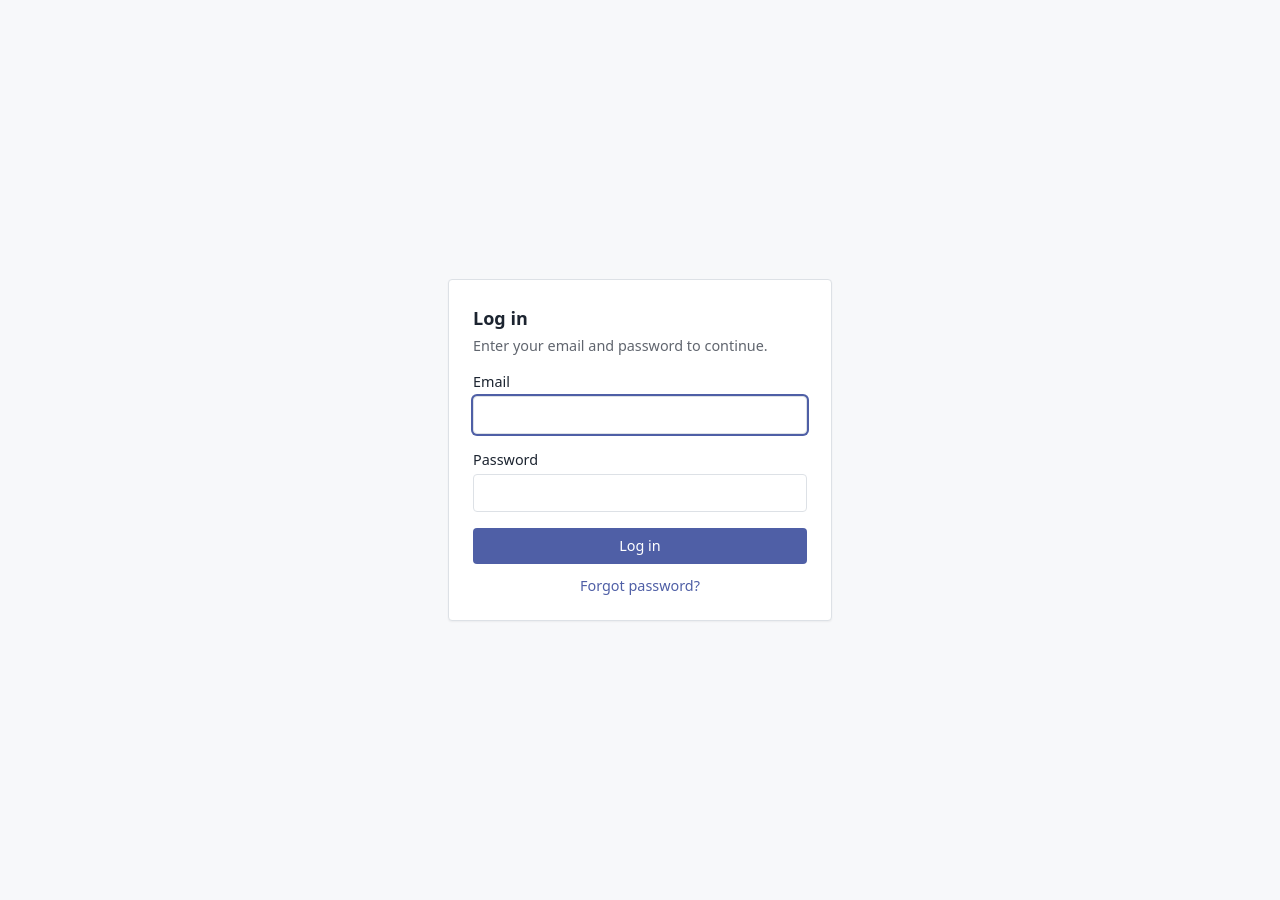
LoginGate › shows an error and stays on the login form when login fails
Type "jo@example.com" into the field labelled "Email" at (640, 415), box [473,396,807,434]
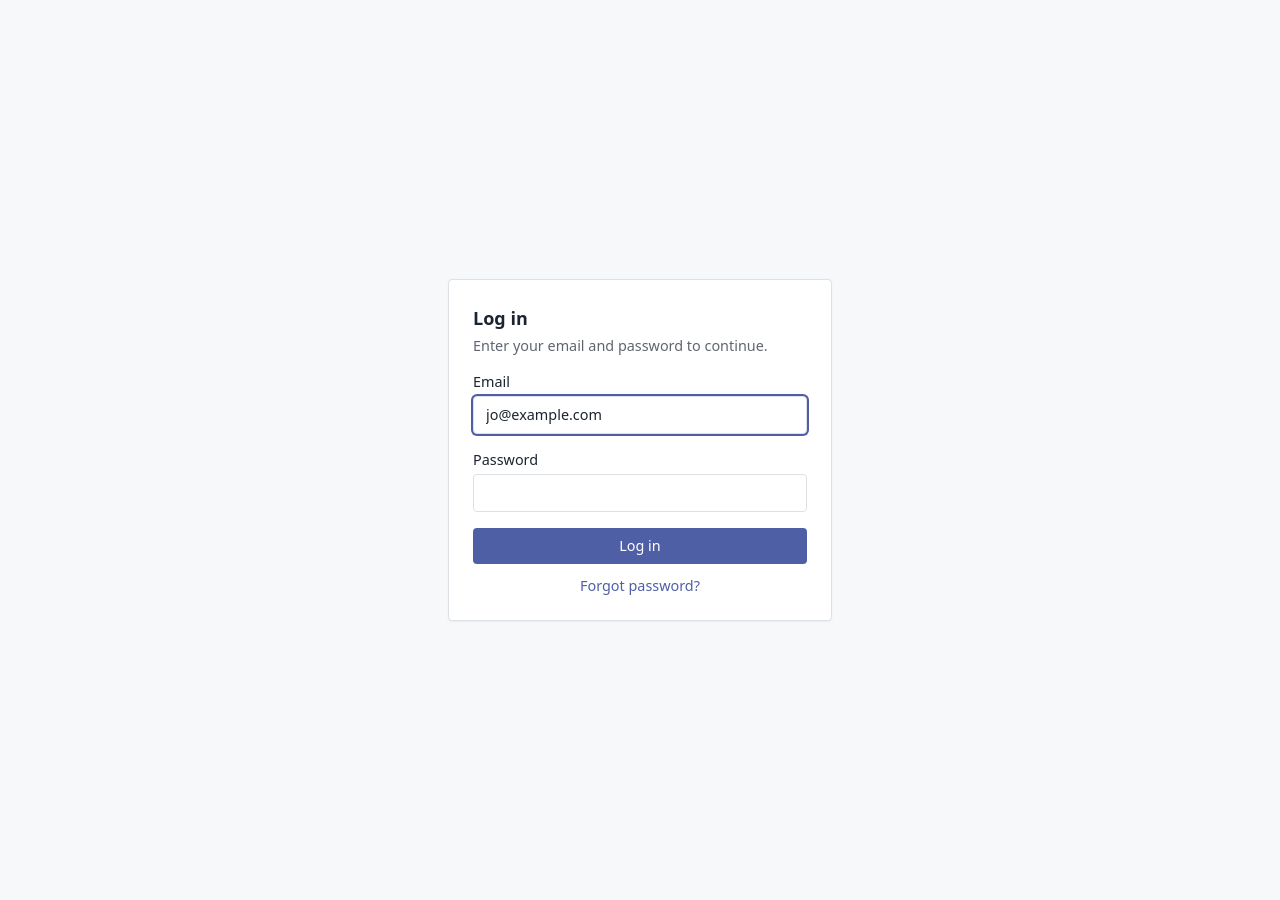
Type "wrong-password" into the password field labelled "Password" at (640, 493), box [473,474,807,512]
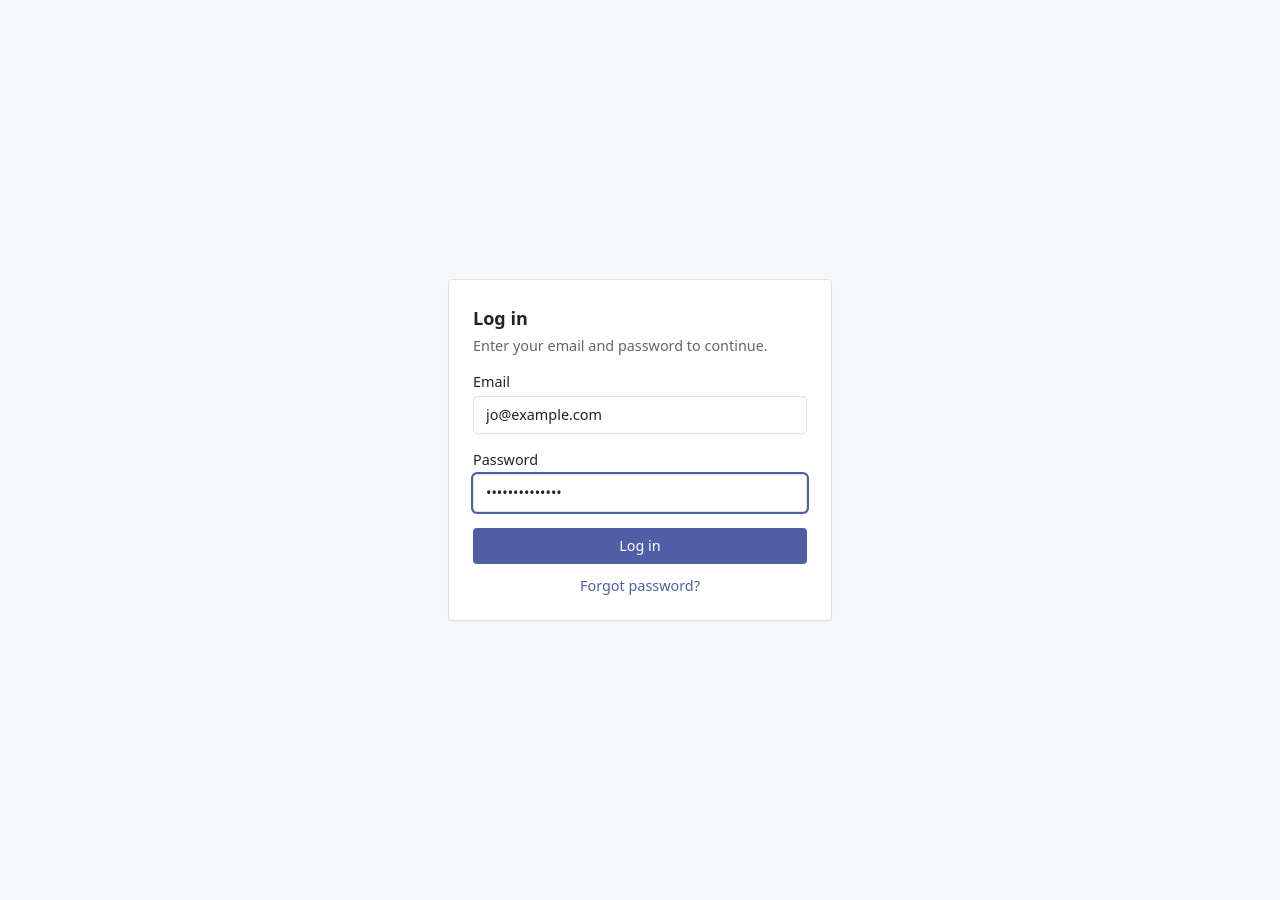
Click the button "Log in" at (640, 546), box [473,528,807,564]
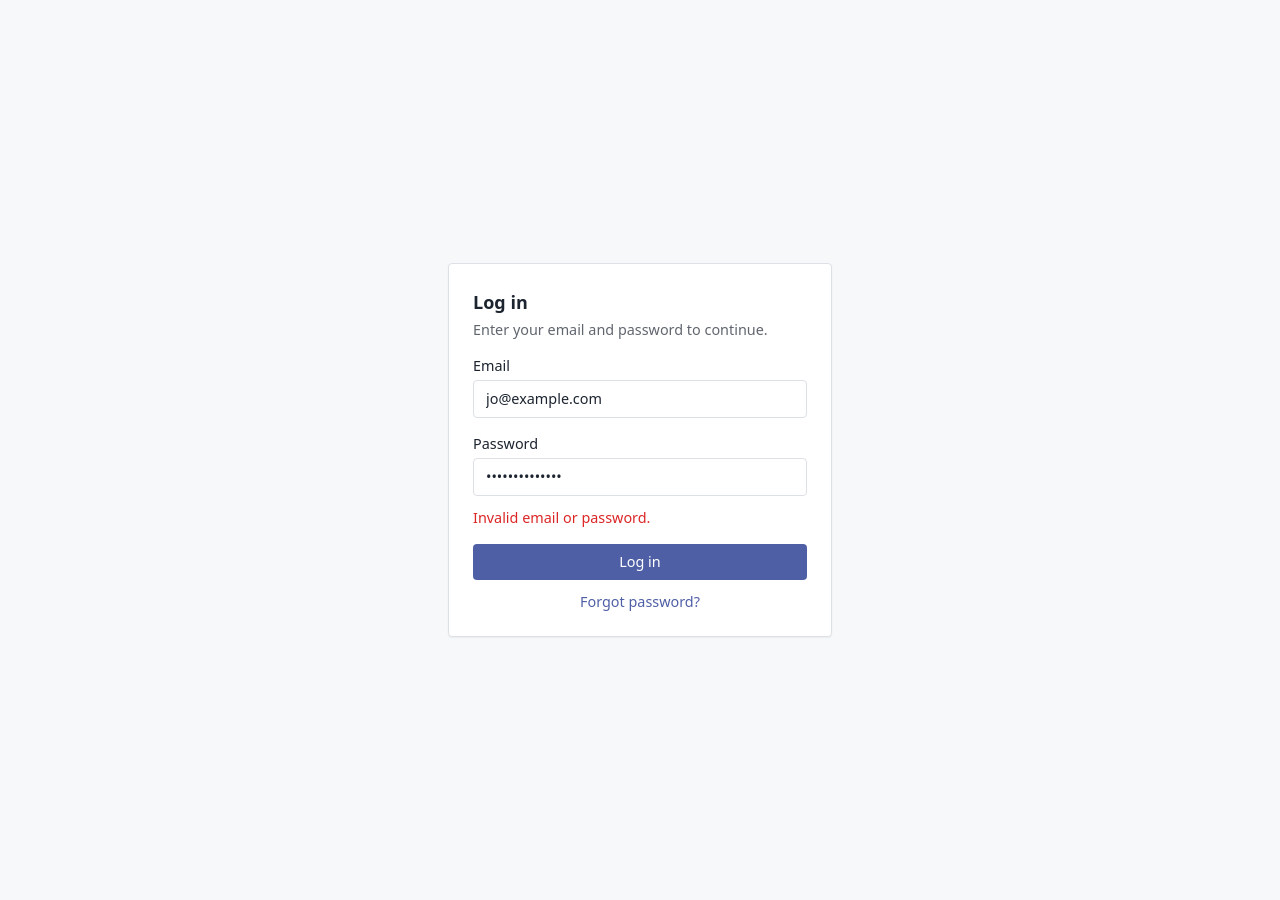
Expected: the text "Invalid email or password." is shown, [473,508,650,527]
